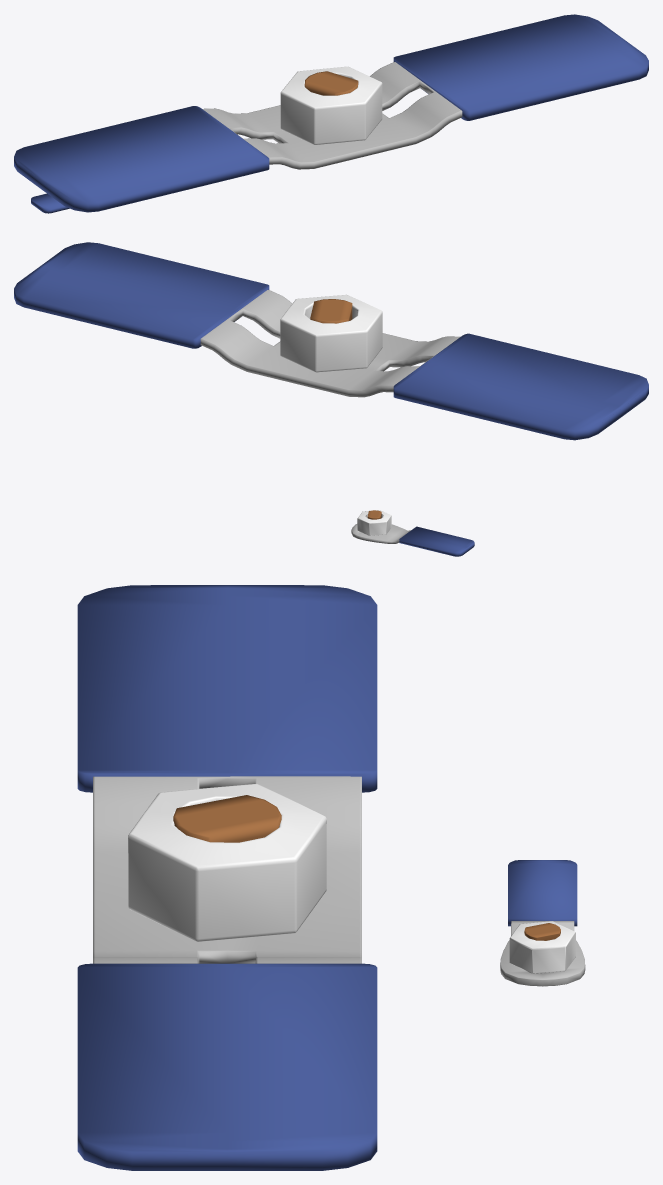
The picture shows the model from 3 angles, top to bottom: view 1: azimuth 30°, elevation 25°; view 2: azimuth 150°, elevation 25°; view 3: azimuth 270°, elevation 25°; orthographic projection. The views are drawn at different scales.
Parts seen in each view (by area): view 1: SOHANDLE1_Baked, TCHANDLE1_Baked; view 2: SOHANDLE1_Baked, TCHANDLE1_Baked; view 3: SOHANDLE1_Baked, TCHANDLE1_Baked.
Part boxes in pixels (bbox=[...]): SOHANDLE1_Baked: bbox=[14, 14, 648, 212]; TCHANDLE1_Baked: bbox=[31, 193, 69, 213]; SOHANDLE1_Baked: bbox=[14, 242, 648, 440]; TCHANDLE1_Baked: bbox=[351, 510, 474, 556]; SOHANDLE1_Baked: bbox=[77, 585, 377, 1170]; TCHANDLE1_Baked: bbox=[500, 860, 585, 986].
Size of the model in its own units: 10.99 by 2.44 by 4.16.
Materials: 1 (1 with a texture image).
